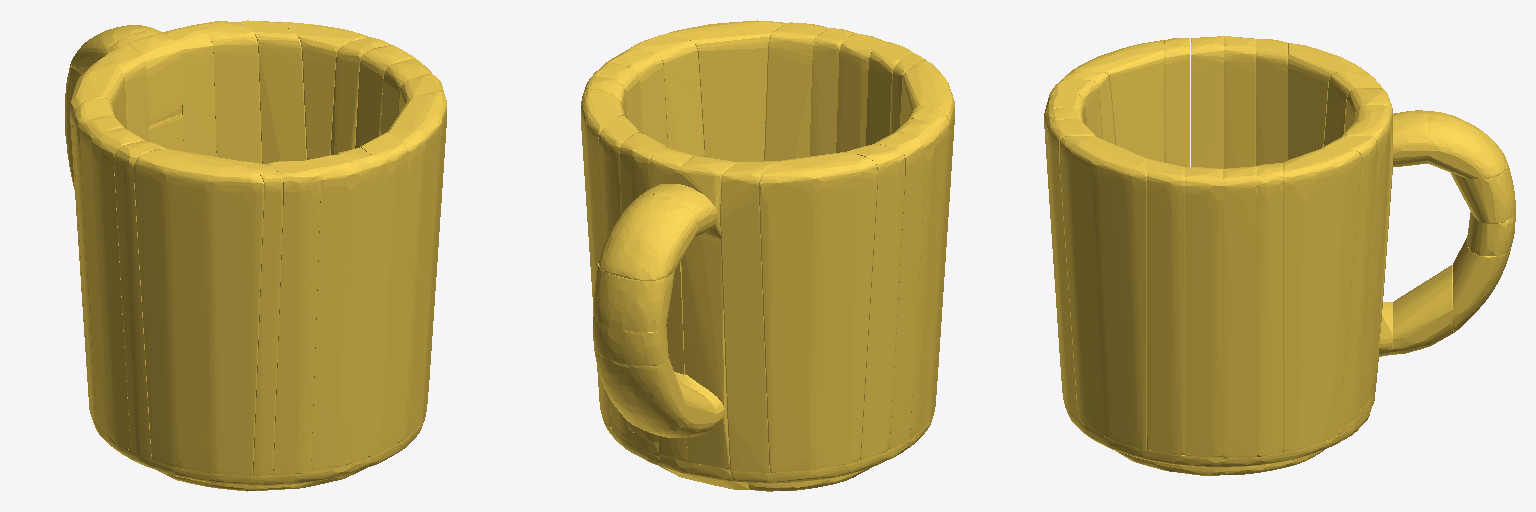
URDF robot description (908.urdf):
<?xml version="1.0" ?>
<robot name="908.urdf">
	<link name="baseLink">
		<inertial>
			<origin rpy="0 0 0" xyz="0 0 0"/>
				<mass value="0.1"/>
				<inertia ixx="6e-5" ixy="0" ixz="0" iyy="6e-5" iyz="0" izz="6e-5"/>
		</inertial>
		<visual>
			<origin rpy="0 0 0" xyz="0 0 0"/>
			<geometry>
				<mesh filename="35_decom_wt.obj" scale="0.82 0.82 0.81"/>
			</geometry>
			<material name="yellow">
				<color rgba="0.98 0.84 0.35 1"/>
			</material>
		</visual>
		<collision>
			<origin rpy="0 0 0" xyz="0 0 0"/>
			<geometry>
				<mesh filename="35_decom_wt.obj" scale="0.82 0.82 0.81"/>
			</geometry>
		</collision>
	</link>
</robot>

--- What the picture shows (computed from the rendered views, not written in the file) ---
The picture shows the robot from 3 angles, left to right: view 1: azimuth 30°, elevation 25°; view 2: azimuth 150°, elevation 25°; view 3: azimuth 270°, elevation 25°; orthographic projection.
Robot: 908.urdf — 1 links, 0 joints (none); root link baseLink; default pose: all joints at 0.
Visible links, largest first — view 1: baseLink; view 2: baseLink; view 3: baseLink.
Link boxes in pixels (left/top/right/bottom): baseLink: left=65, top=20, right=446, bottom=491; baseLink: left=581, top=20, right=954, bottom=491; baseLink: left=1044, top=36, right=1515, bottom=475.
Size in the robot's own frame: 0.1131 by 0.1528 by 0.1144 metres.
1 mesh visuals loaded from 1 distinct referenced files (1 OBJ).